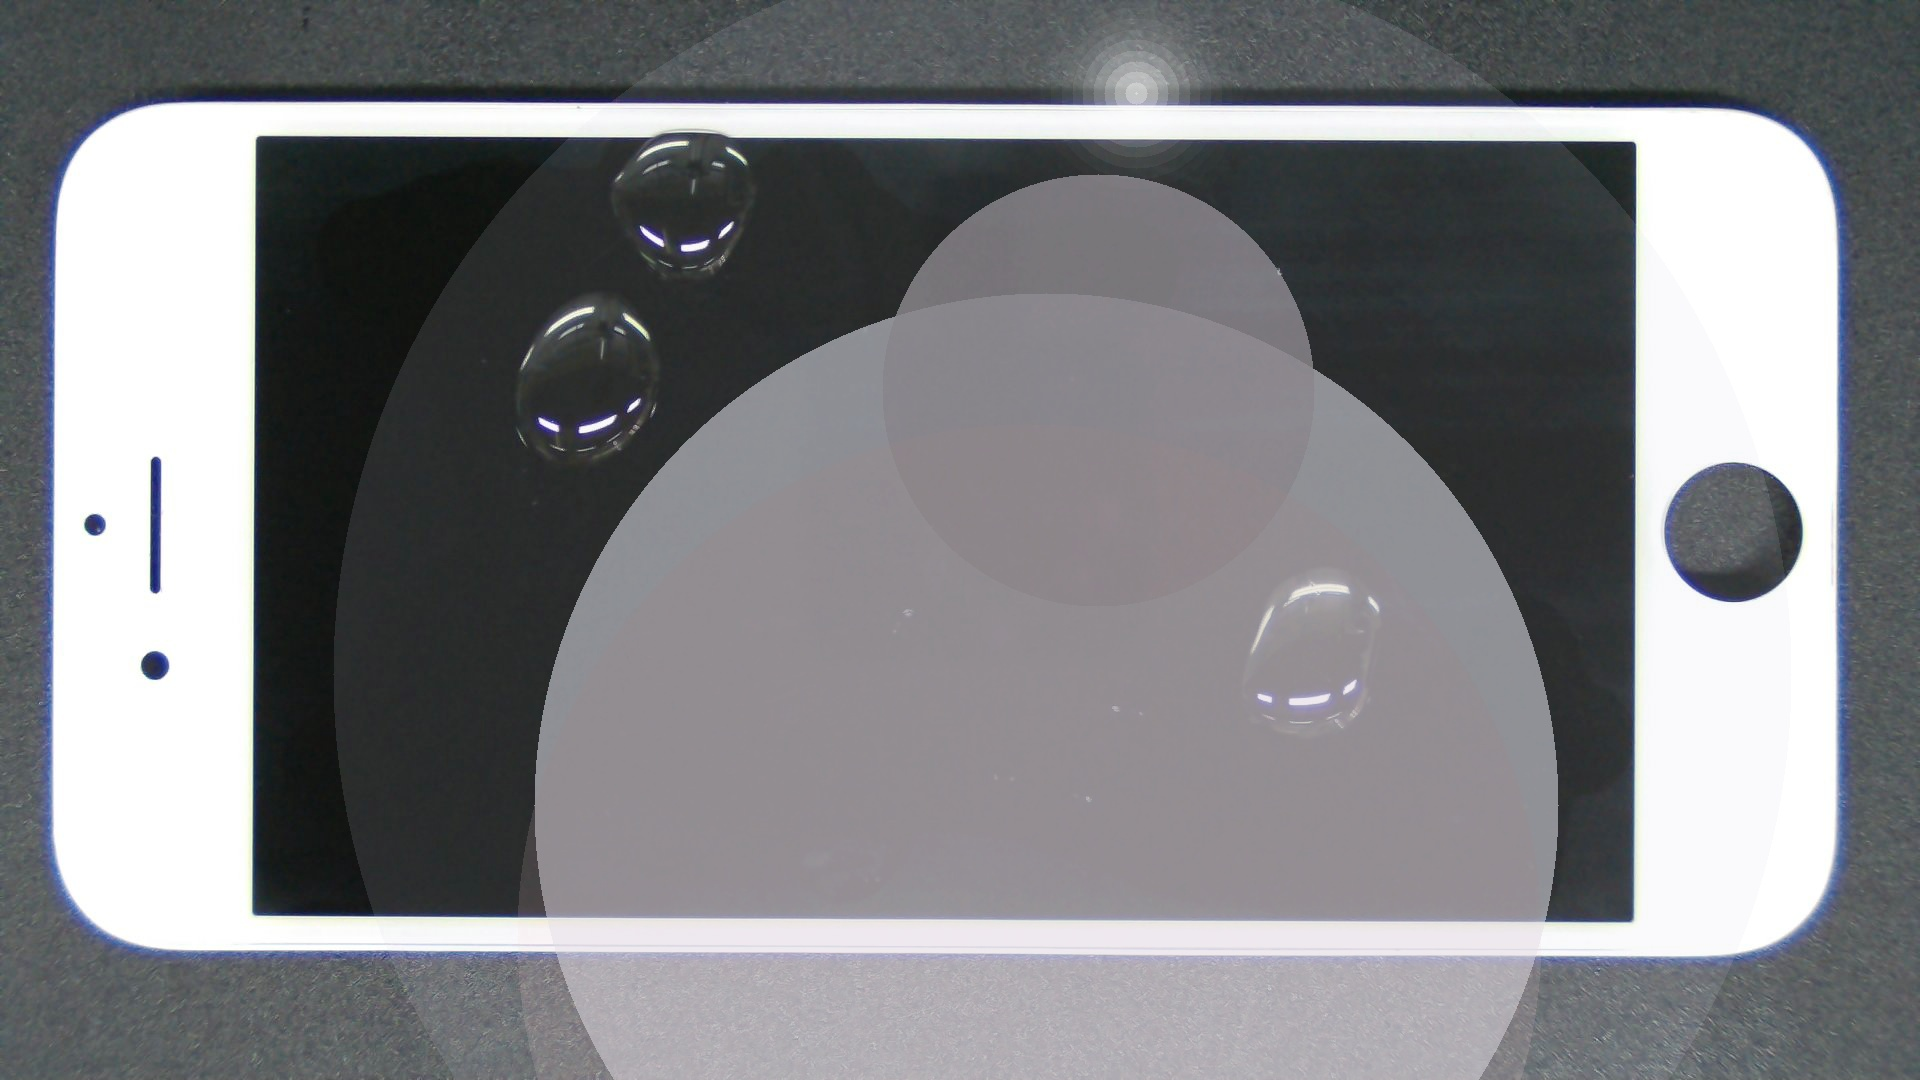oil: (665, 284, 1920, 851), (298, 145, 894, 436), (344, 63, 1031, 193)
